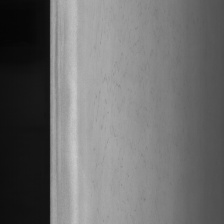silk_spot: (91, 6, 152, 175)
